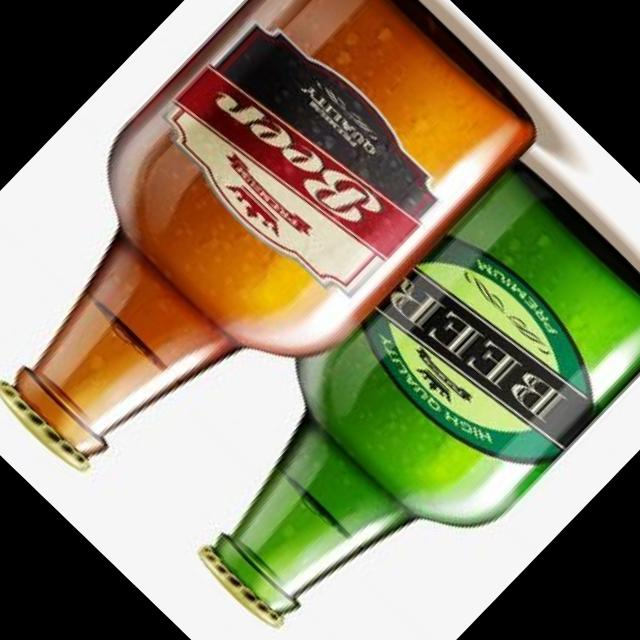BotolKaca: (0, 0, 553, 550), (144, 142, 640, 640)
